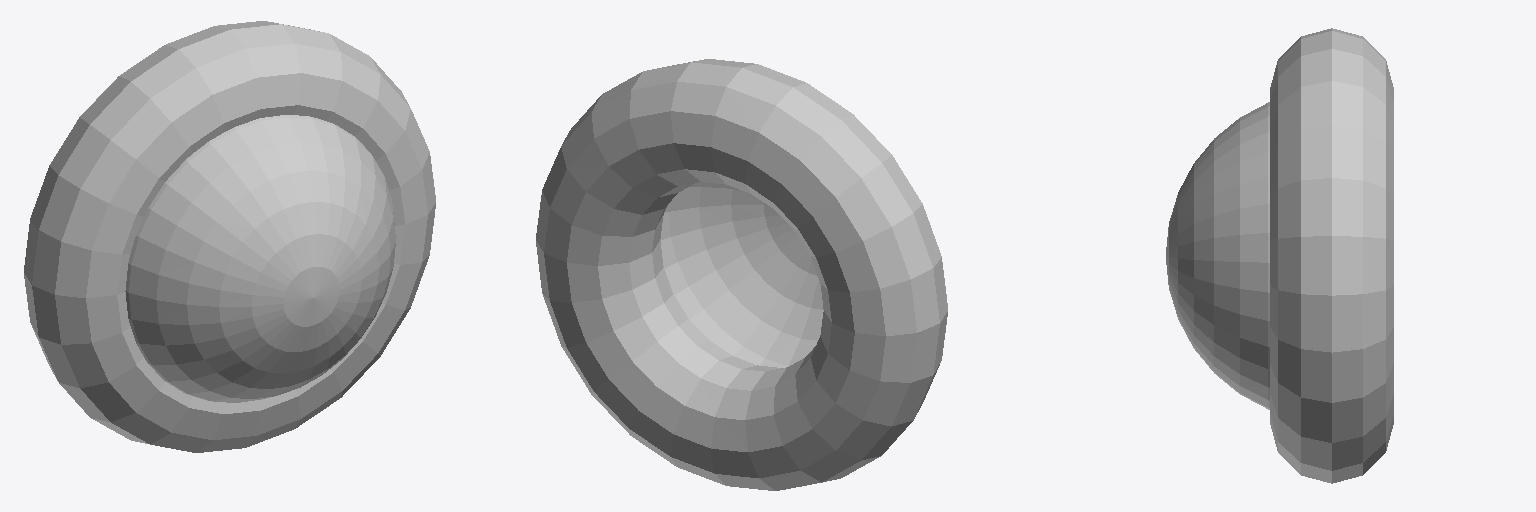
File: newEnemy.obj
The picture shows the model from 3 angles: view 1: azimuth 30°, elevation 25°; view 2: azimuth 150°, elevation 25°; view 3: azimuth 270°, elevation 25°; orthographic projection.
Parts seen in each view (by area): view 1: Torus001, Sphere001; view 2: Torus001, Sphere001; view 3: Torus001, Sphere001.
Boxes of the visible parts, x1,y1,x2,y2 form: Torus001: [24, 21, 435, 452]; Sphere001: [125, 115, 395, 402]; Torus001: [536, 59, 947, 490]; Sphere001: [660, 182, 823, 367]; Torus001: [1270, 28, 1393, 483]; Sphere001: [1166, 102, 1269, 409].
Size of the model in its own units: 1.1 by 1.1 by 0.55.